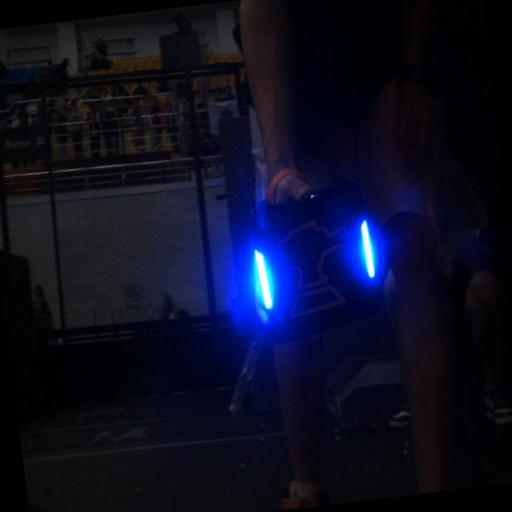target: (244, 187, 394, 342)
